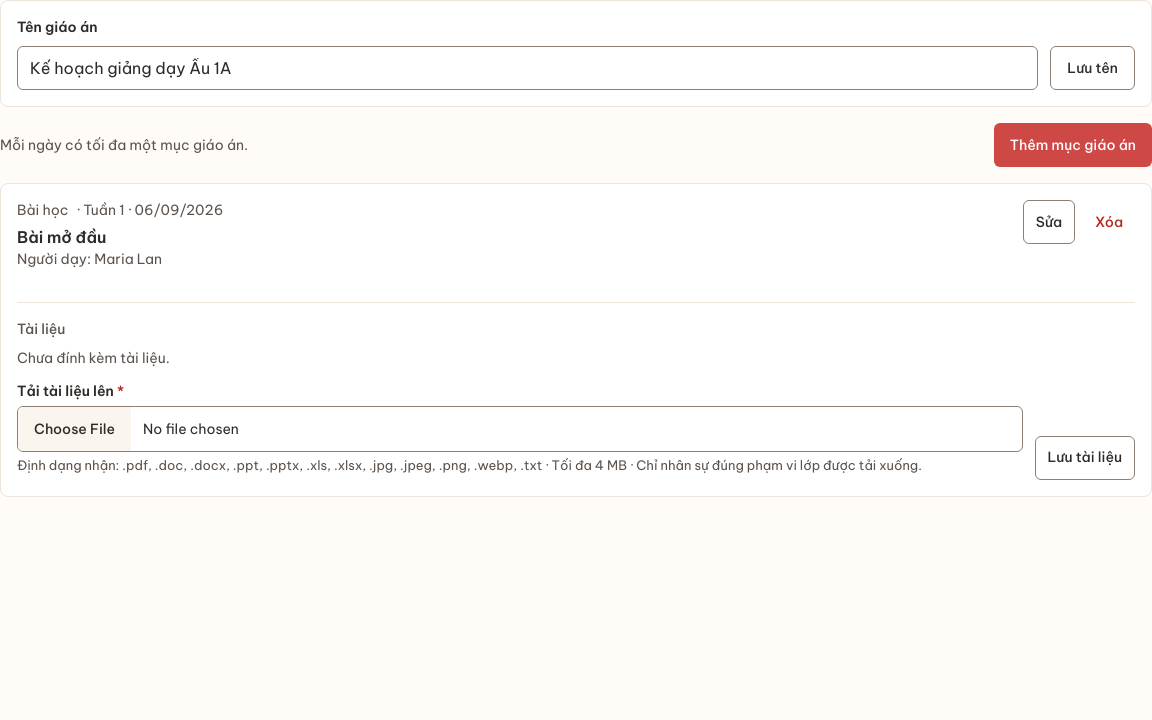
Test case: ô người dạy lọc theo ngày (M06-A · TB-M06-03 · TB-05) › người ĐANG được chọn không bị âm thầm thay khi đổi ngày
This screenshot has width=1152, height=720.
Click the button "Sửa": click(1049, 222) [1023,200,1075,244]
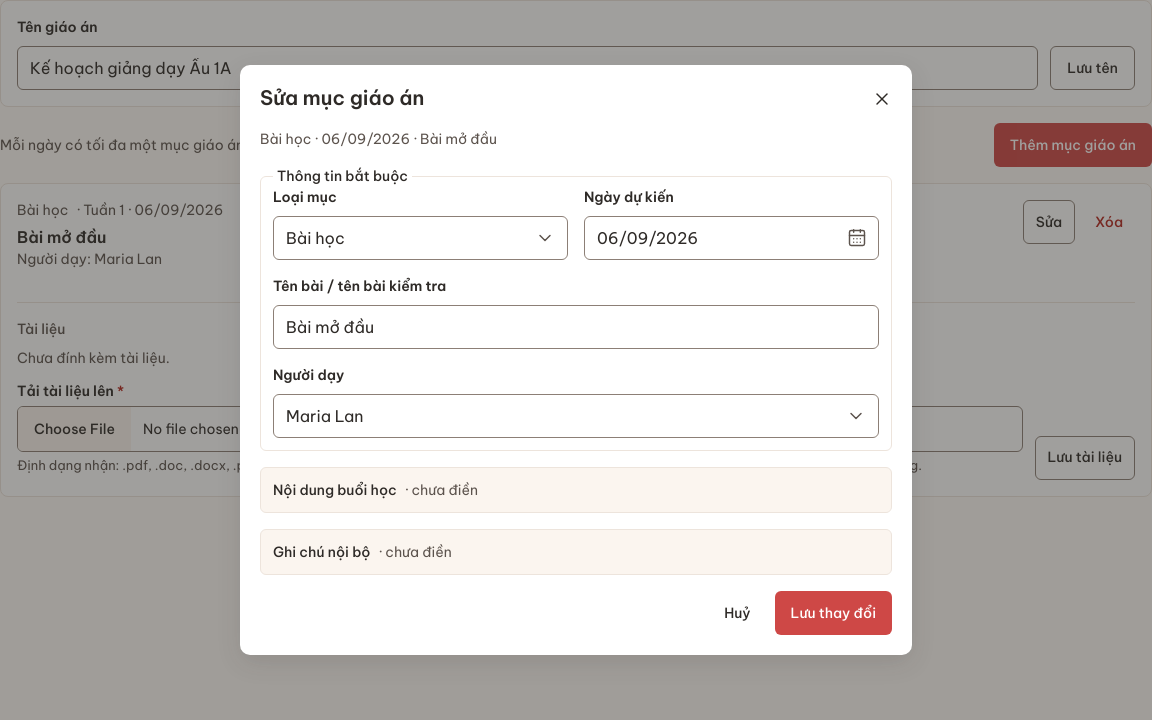
Now the label named "teacherStaffId" holds "staff-lan", box [273,366,344,384]
Replace the text in the field labelled "Ngày dự kiến" with "2026-11-05": (732, 238) [584,216,879,260]
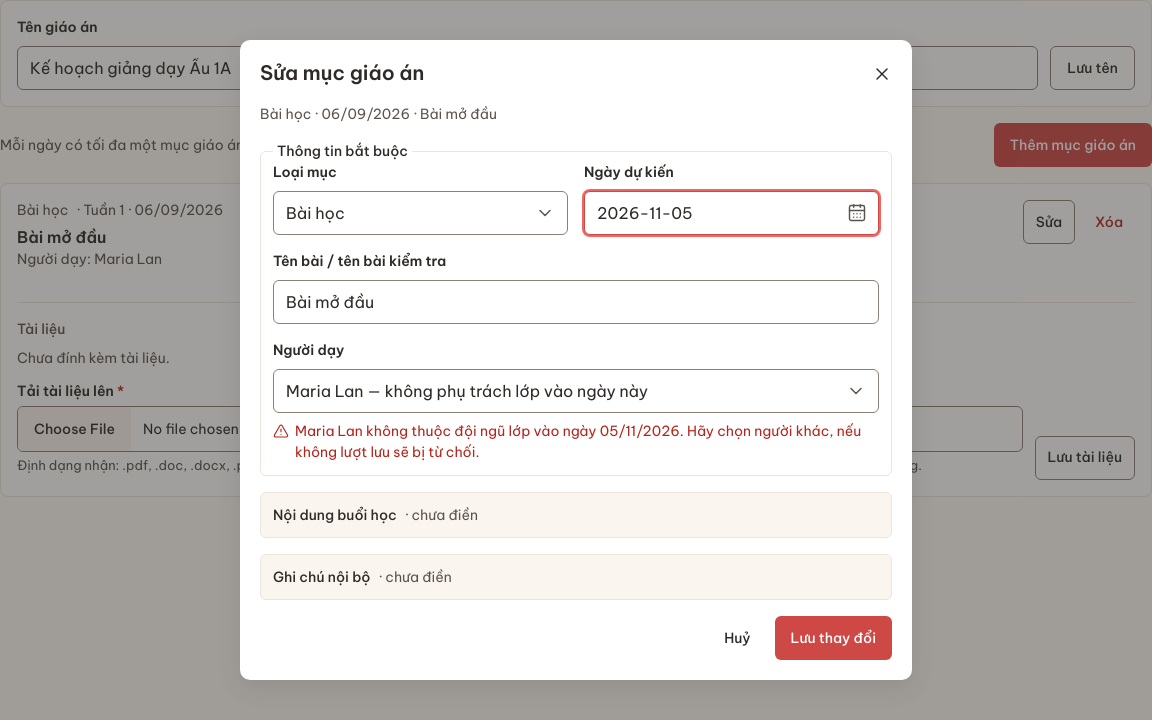
Now the label named "teacherStaffId" holds "staff-lan", box [273,341,344,359]
Now the text "không thuộc đội ngũ lớp vào ngày" is shown, box [295,421,879,463]
